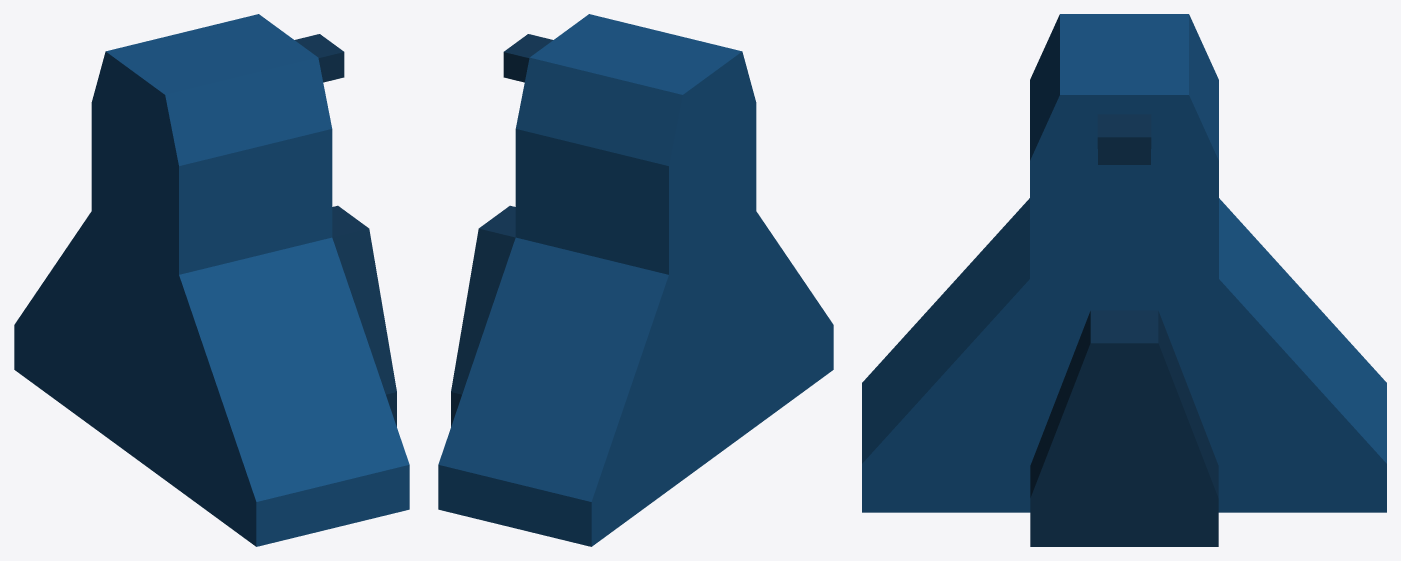
The model's file is turret_base.glb.
3 renders of one model, left to right at view 1: azimuth 30°, elevation 25°; view 2: azimuth 150°, elevation 25°; view 3: azimuth 270°, elevation 25°, orthographic. The views are drawn at different scales.
Visible parts, largest first — view 1: TurretBase; view 2: TurretBase; view 3: TurretBase.
Part boxes in pixels (x1=…): TurretBase: x1=14, y1=14, x2=409, y2=546; TurretBase: x1=438, y1=14, x2=833, y2=546; TurretBase: x1=862, y1=14, x2=1386, y2=546.
Size of the model in its own units: 1.19 by 2 by 2.28.
1 material, 1 textured.
